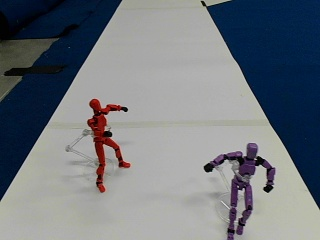pedestrian: (205, 144, 275, 235), (87, 97, 129, 190)
